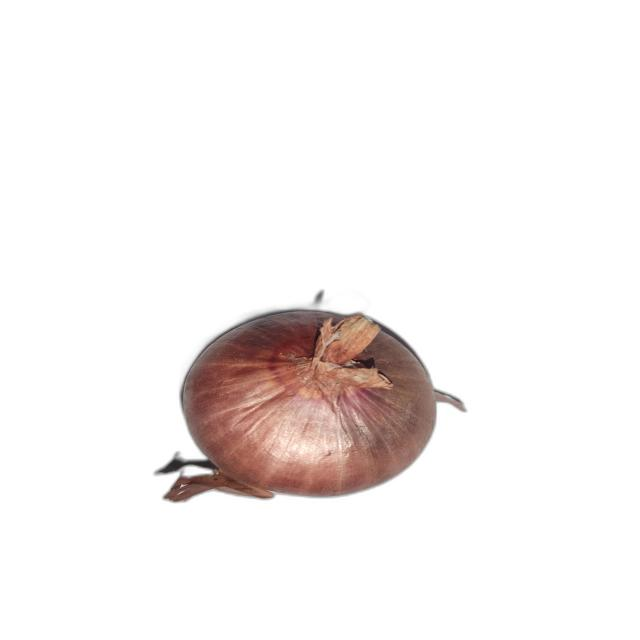onion: (164, 311, 466, 503)
